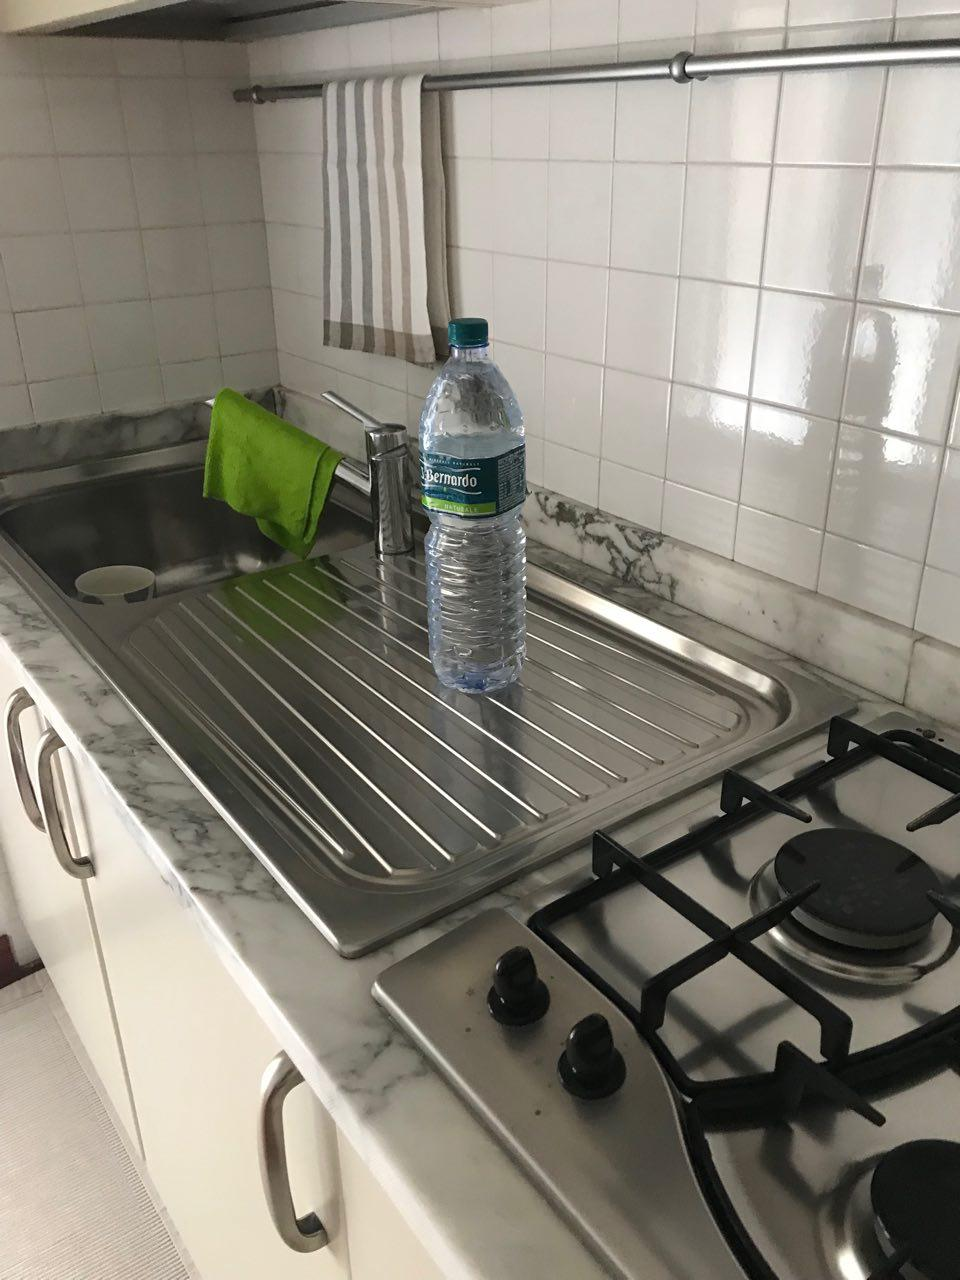san_bernardo: (418, 318, 527, 694)
